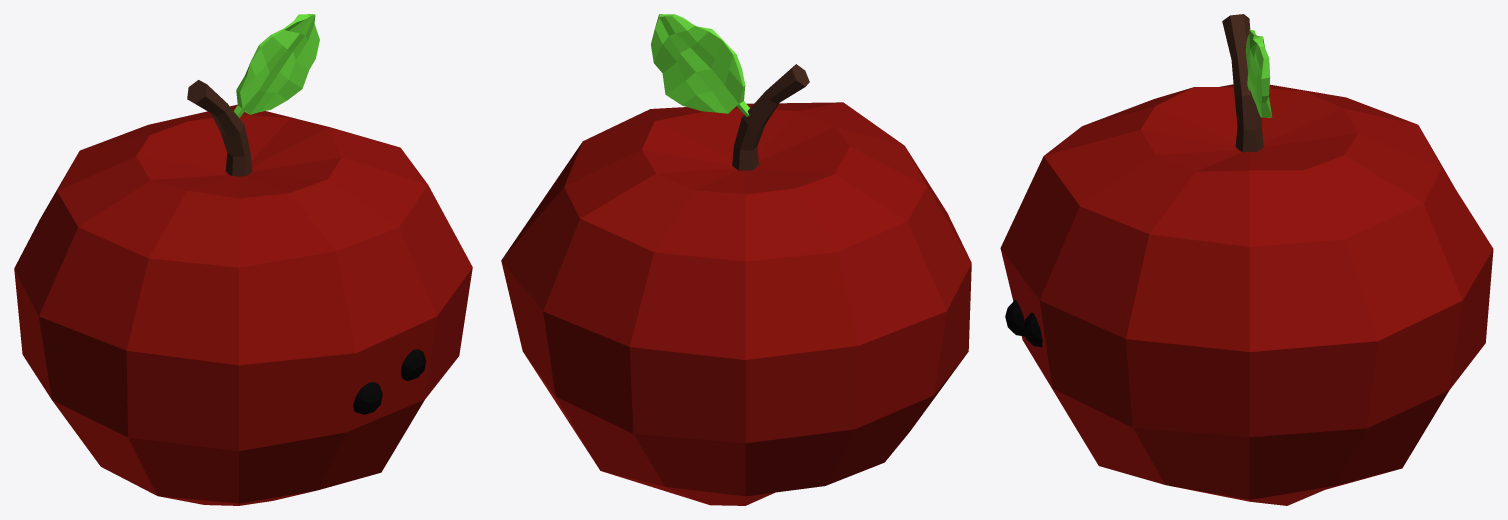
The model's file is MMApple.fbx.
3 renders of one model, left to right at view 1: azimuth 30°, elevation 25°; view 2: azimuth 150°, elevation 25°; view 3: azimuth 270°, elevation 25°, orthographic. The views are drawn at different scales.
Parts seen in each view (by area): view 1: Sphere, Cube, Cylinder, AppleEye1, AppleEye2; view 2: Sphere, Cube, Cylinder; view 3: Sphere, Cylinder, Cube.
Part boxes in pixels (left/top/right/bottom): Sphere: left=14, top=104, right=472, bottom=505; Cube: left=234, top=14, right=319, bottom=117; Cylinder: left=187, top=80, right=252, bottom=176; AppleEye1: left=353, top=382, right=382, bottom=414; AppleEye2: left=401, top=349, right=426, bottom=380; Sphere: left=501, top=102, right=971, bottom=505; Cube: left=651, top=14, right=749, bottom=116; Cylinder: left=732, top=64, right=809, bottom=170; Sphere: left=1000, top=84, right=1493, bottom=505; Cylinder: left=1222, top=14, right=1263, bottom=152; Cube: left=1246, top=29, right=1272, bottom=117.
Bounding box in the file's own units: 203 × 219 × 205.
